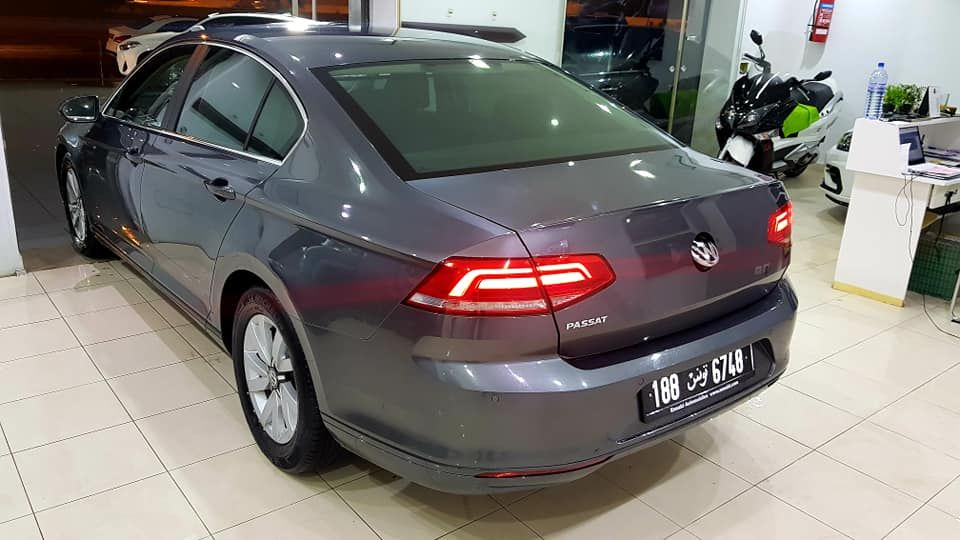LP: (643, 341, 756, 421)
